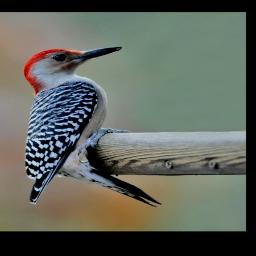Woodpecker: (10, 39, 173, 219)
